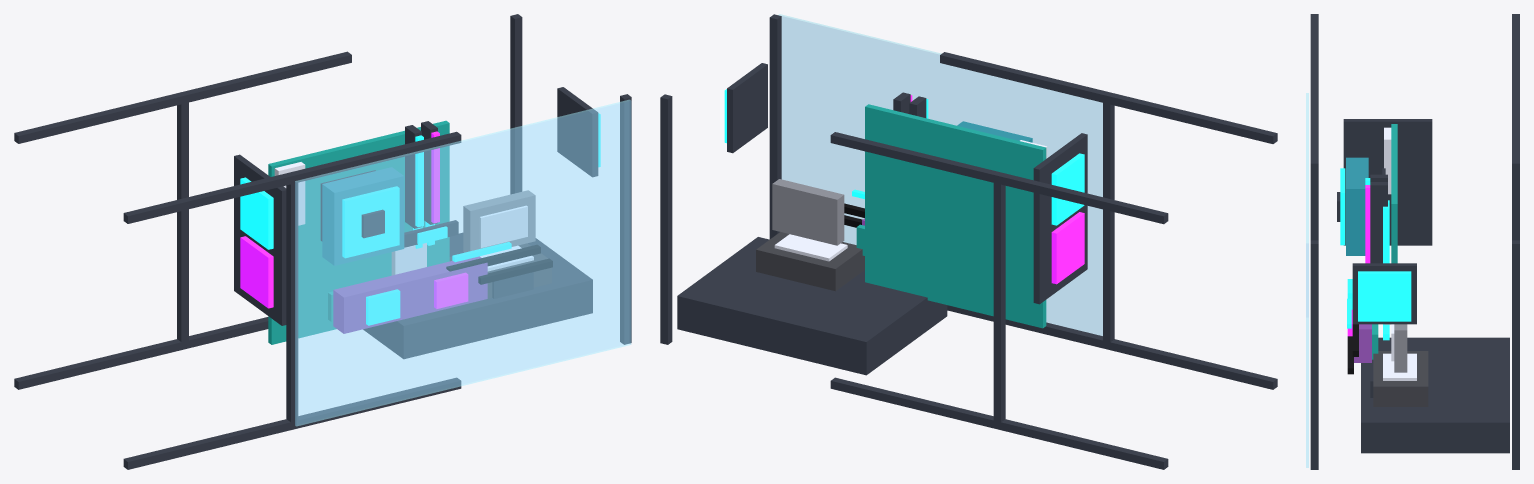
File: pc-professional.glb
The picture shows the model from 3 angles, left to right: view 1: azimuth 30°, elevation 25°; view 2: azimuth 150°, elevation 25°; view 3: azimuth 270°, elevation 25°; orthographic projection. The views are drawn at different scales.
Parts seen in each view (by area): view 1: Panel Samping Transparan glass_panel, Motherboard pcb, Frame Casing psu_shroud, GPU gpu_shroud, Frame Casing top_front, Frame Casing top_back, Frame Casing bottom_front, Front Intake Fans front_filter, CPU Cooler cooler_fins, Frame Casing bottom_back, Frame Casing left_front, Frame Casing right_front (+19 smaller); view 2: Panel Samping Transparan glass_panel, Motherboard pcb, Frame Casing psu_shroud, Frame Casing top_back, Frame Casing top_front, Frame Casing bottom_back, Front Intake Fans front_filter, Storage Drive drive_body, Frame Casing bottom_front, Power Supply Unit psu_body, Frame Casing right_back, Frame Casing left_back (+6 smaller); view 3: Frame Casing psu_shroud, Front Intake Fans front_filter, Rear Exhaust Fan rear_fan, Power Supply Unit psu_body, Frame Casing right_front, CPU Cooler cooler_fins, Frame Casing right_back, Rear Exhaust Fan rear_grill, Frame Casing top_front, Frame Casing top_back, RAM ram_stick_b, Panel Samping Transparan glass_panel (+11 smaller).
Boxes of the visible parts, <box> form: Panel Samping Transparan glass_panel: <box>295,99,631,426</box>; Motherboard pcb: <box>268,120,449,344</box>; Frame Casing psu_shroud: <box>363,232,592,358</box>; GPU gpu_shroud: <box>333,256,487,333</box>; Frame Casing top_front: <box>123,131,461,223</box>; Frame Casing top_back: <box>14,51,351,143</box>; Frame Casing bottom_front: <box>123,377,461,469</box>; Front Intake Fans front_filter: <box>234,154,286,325</box>; CPU Cooler cooler_fins: <box>322,167,404,265</box>; Frame Casing bottom_back: <box>14,317,268,389</box>; Frame Casing left_front: <box>286,179,298,421</box>; Frame Casing right_front: <box>620,94,631,344</box>; Panel Samping Transparan glass_panel: <box>778,14,1102,335</box>; Motherboard pcb: <box>865,104,1046,328</box>; Frame Casing psu_shroud: <box>677,237,947,375</box>; Frame Casing top_back: <box>830,132,1168,224</box>; Frame Casing top_front: <box>940,52,1277,143</box>; Frame Casing bottom_back: <box>830,377,1168,469</box>; Front Intake Fans front_filter: <box>1033,133,1087,304</box>; Storage Drive drive_body: <box>772,179,844,245</box>; Frame Casing bottom_front: <box>947,305,1277,389</box>; Power Supply Unit psu_body: <box>756,232,864,291</box>; Frame Casing right_back: <box>660,94,672,344</box>; Frame Casing left_back: <box>993,183,1005,425</box>; Frame Casing psu_shroud: <box>1361,337,1509,453</box>; Front Intake Fans front_filter: <box>1343,119,1432,245</box>; Rear Exhaust Fan rear_fan: <box>1358,271,1411,321</box>; Power Supply Unit psu_body: <box>1373,351,1428,406</box>; Frame Casing right_front: <box>1310,240,1318,469</box>; CPU Cooler cooler_fins: <box>1346,157,1368,255</box>; Frame Casing right_back: <box>1512,240,1519,469</box>; Rear Exhaust Fan rear_grill: <box>1352,263,1416,324</box>; Frame Casing top_front: <box>1310,14,1318,170</box>; Frame Casing top_back: <box>1512,14,1519,170</box>; RAM ram_stick_b: <box>1370,182,1387,263</box>; Panel Samping Transparan glass_panel: <box>1306,93,1308,467</box>.
Size of the model in its own units: 6.65 by 3.2 by 2.66.
